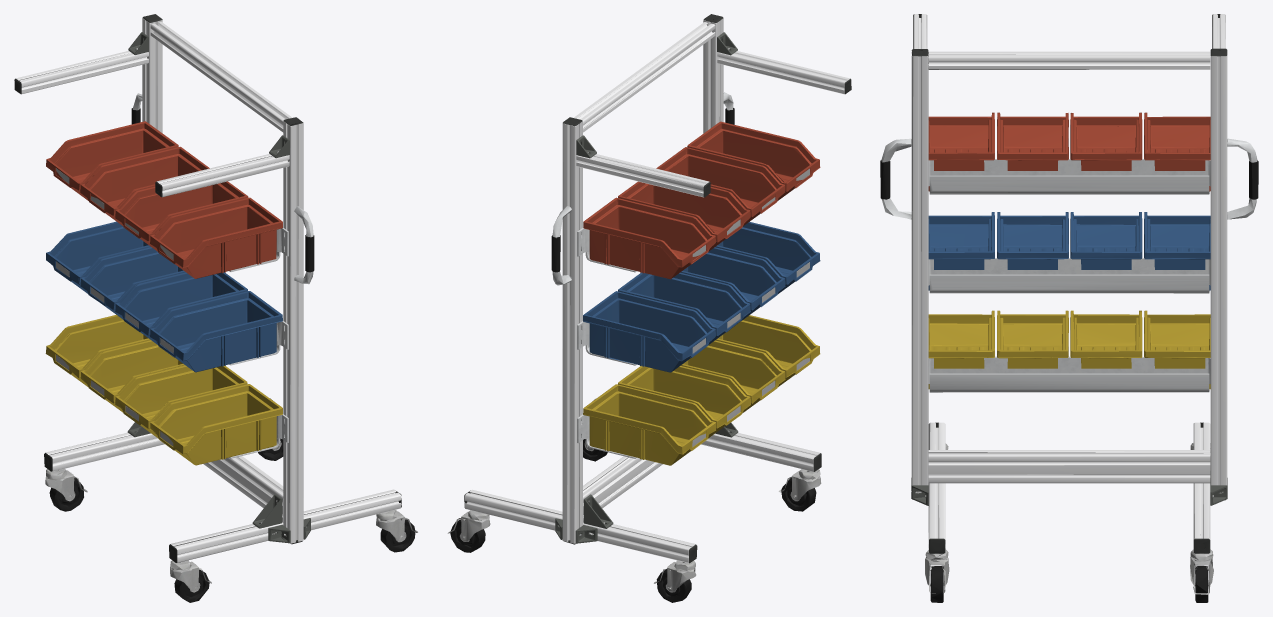
The model's file is cart_angle_bins.glb.
The picture shows the model from 3 angles, left to right: view 1: azimuth 30°, elevation 25°; view 2: azimuth 150°, elevation 25°; view 3: azimuth 270°, elevation 25°; orthographic projection. The views are drawn at different scales.
Visible parts, largest first — view 1: cart_angle_bins_mesh; view 2: cart_angle_bins_mesh; view 3: cart_angle_bins_mesh.
Boxes of the visible parts, left/top/right/bottom form: cart_angle_bins_mesh: left=14, top=14, right=417, bottom=602; cart_angle_bins_mesh: left=447, top=14, right=851, bottom=602; cart_angle_bins_mesh: left=880, top=14, right=1258, bottom=602.
Size of the model in its own units: 0.9135 by 1.52 by 1.06.
Materials: 11 (2 with a texture image).
